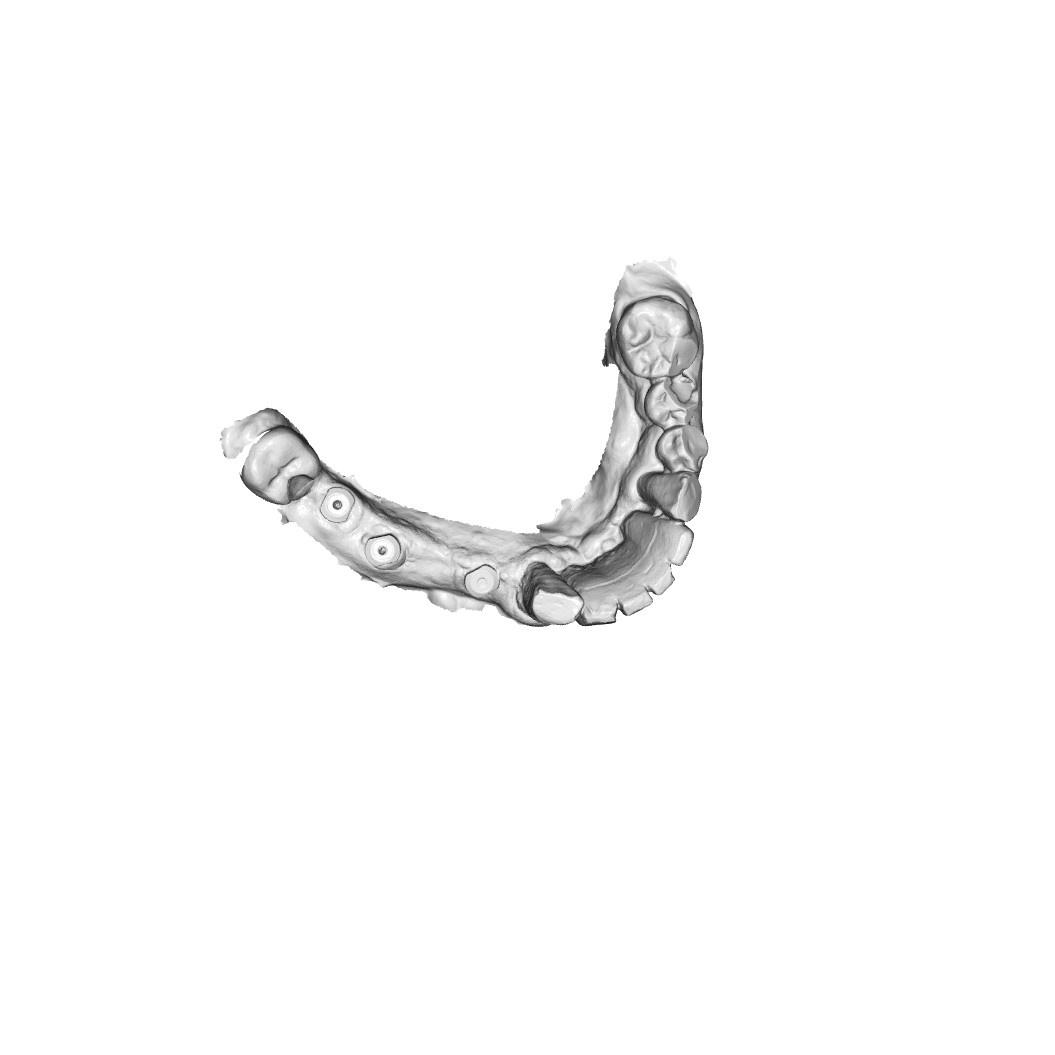canine: (642, 465, 707, 522), (522, 568, 583, 627)
implant: (361, 532, 409, 574), (318, 484, 357, 528), (462, 559, 502, 600)
incisor: (634, 516, 696, 566), (626, 556, 682, 597), (574, 570, 615, 624), (610, 565, 652, 617)
molar: (619, 296, 697, 376), (247, 428, 316, 501)
premolar: (645, 379, 697, 430), (661, 429, 705, 473)
